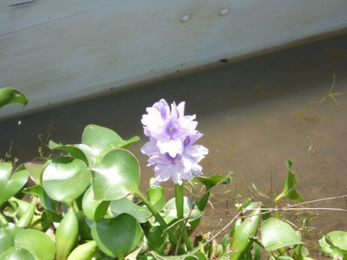water_hyacinth: (1, 85, 309, 260)
